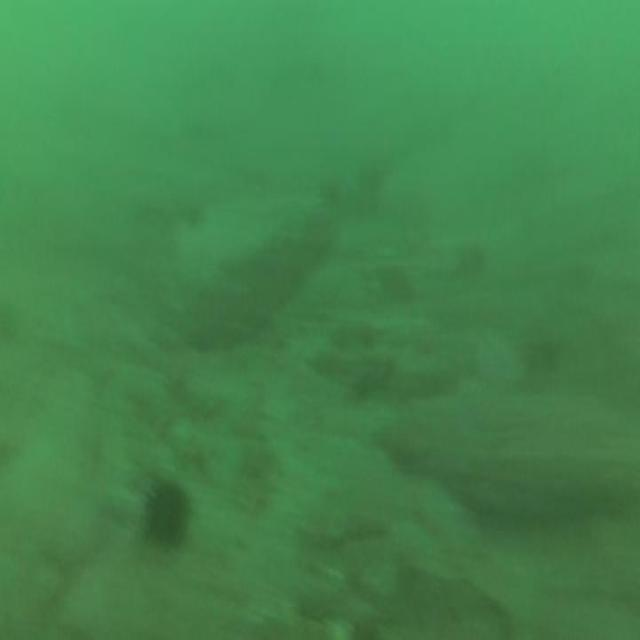echinus: (145, 490, 189, 547)
